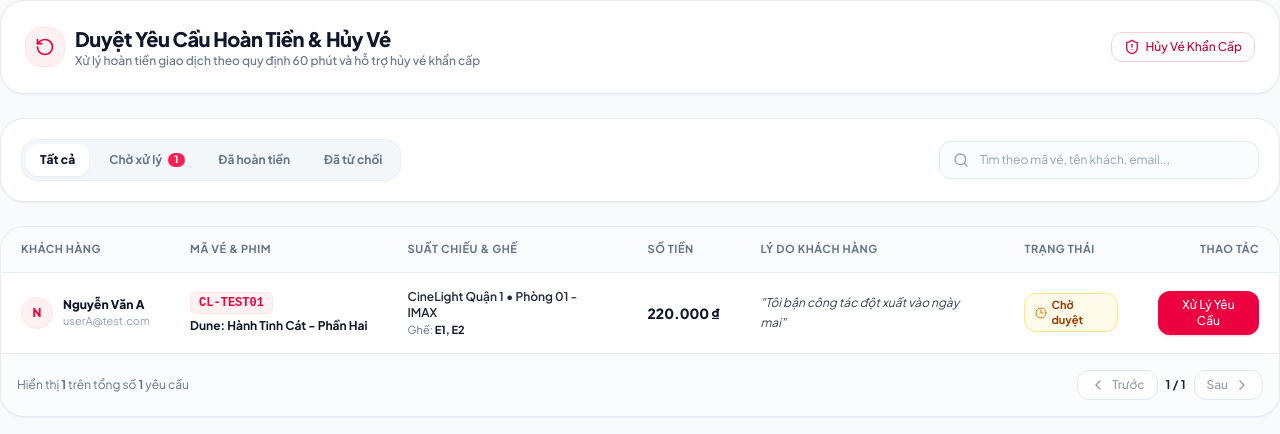
Test: RefundManagement Component › renders refund list correctly and allows filtering by status tabs
Expected: the text "CL-TEST01" is shown, x1=190 y1=292 x2=273 y2=314
Expected: the text "Nguyễn Văn A" is shown, x1=63 y1=297 x2=150 y2=313
# Switch to "Đã hoàn tiền" tab
Click the button "Đã hoàn tiền" at (254, 160), box x1=204 y1=144 x2=304 y2=176
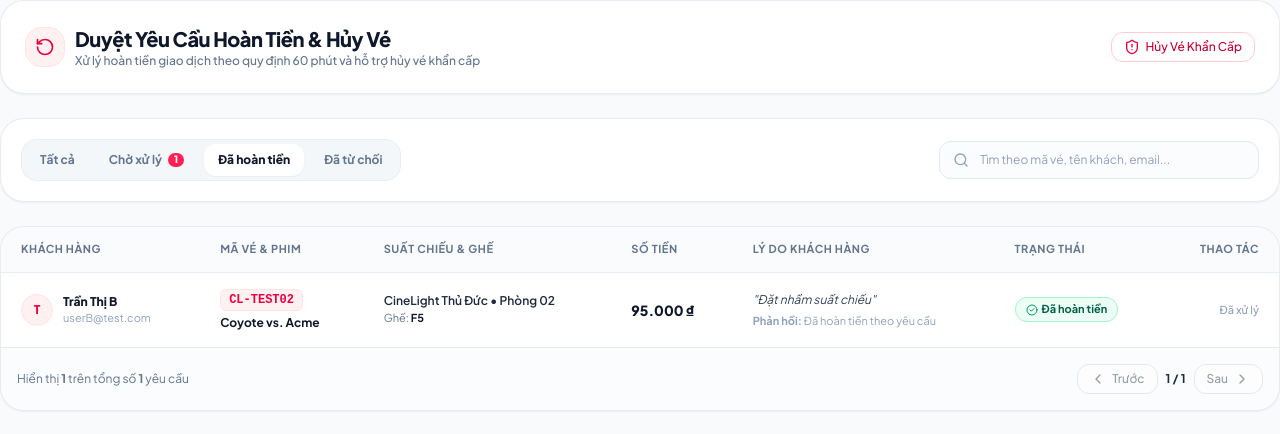
Now the text "CL-TEST02" is shown, box x1=220 y1=288 x2=303 y2=310
Now the text "Trần Thị B" is shown, box x1=63 y1=294 x2=117 y2=308
